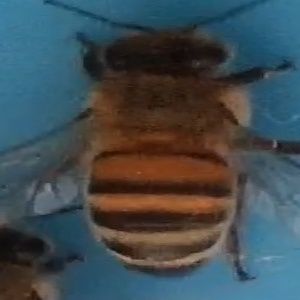bee: (60, 2, 298, 282), (2, 219, 87, 300)
